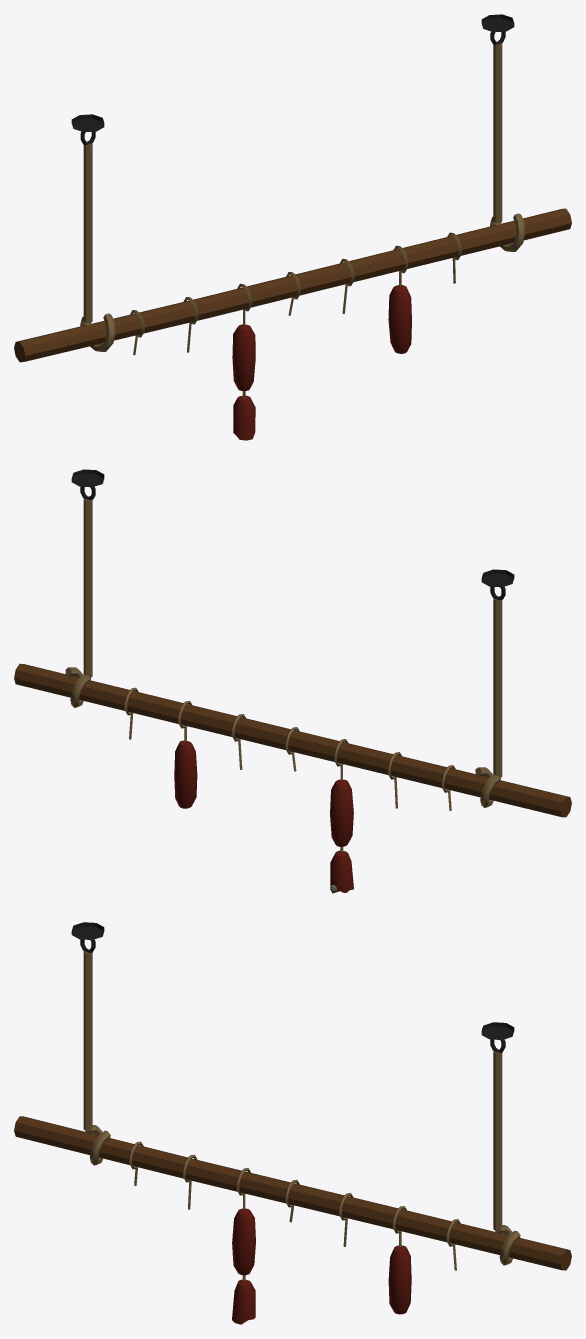
Rendered from wurststange_kaputt.glb.
3 views of the same model, one above another, from view 1: azimuth 30°, elevation 25°; view 2: azimuth 150°, elevation 25°; view 3: azimuth 330°, elevation 25° (orthographic).
Visible parts, largest first — view 1: wurststange_kaputt; view 2: wurststange_kaputt; view 3: wurststange_kaputt.
Part boxes in pixels (<box>): wurststange_kaputt: <box>14,14,571,440</box>; wurststange_kaputt: <box>14,469,571,893</box>; wurststange_kaputt: <box>14,922,571,1324</box>.
Bounding box in the file's own units: 1.12 × 0.6942 × 0.0683.
